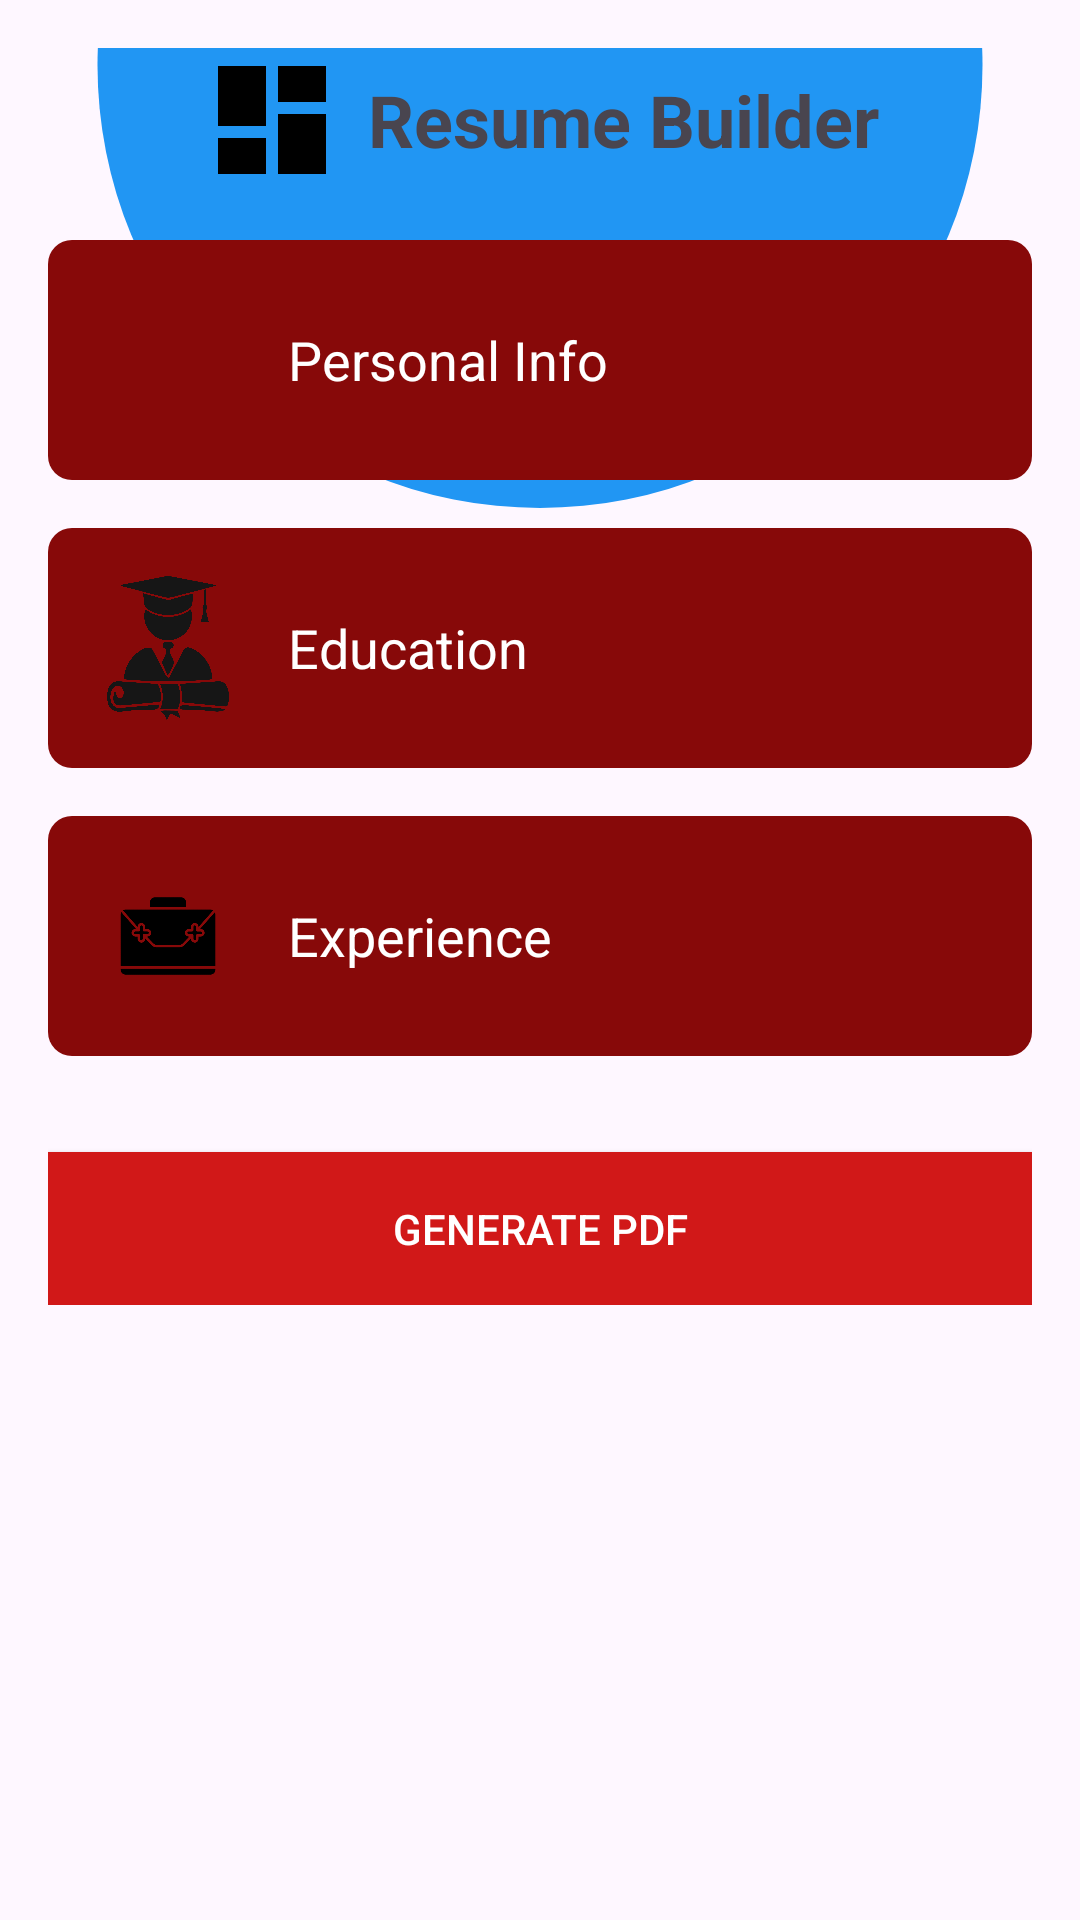

Icons on this 1080px×1920px Android screen, each with the point to tap as (x=x, y=y):
work: (x=168, y=936)
